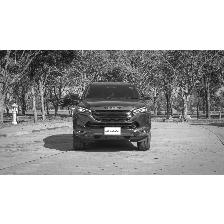NON-EV: (71, 82, 153, 150)
